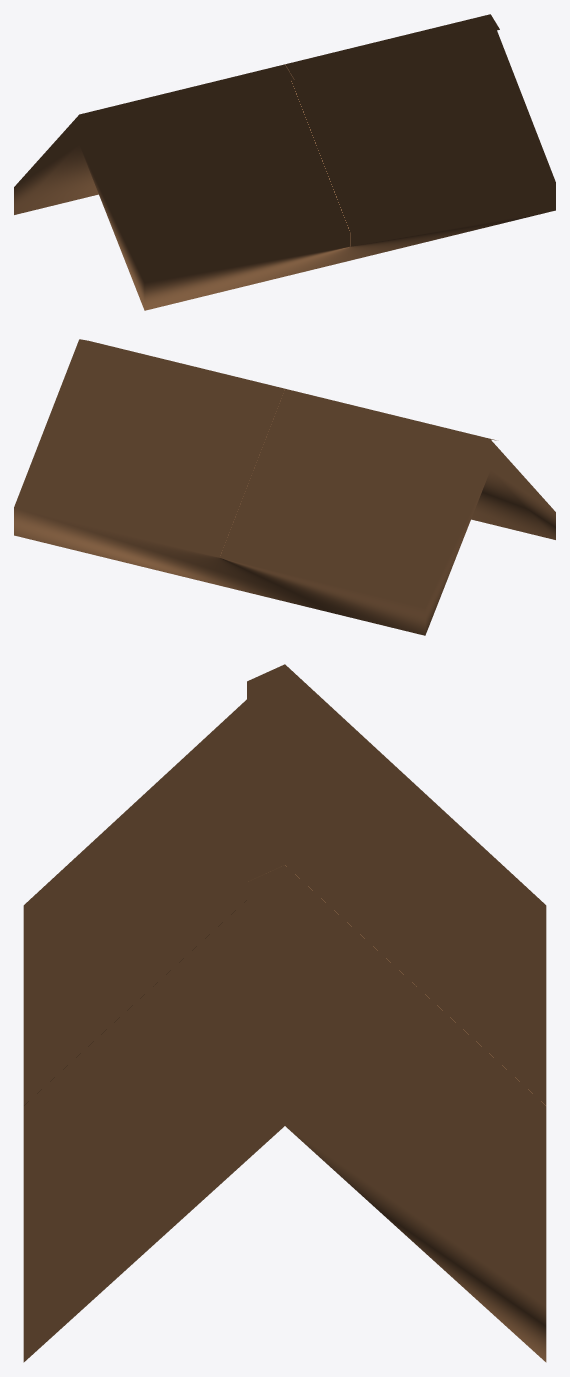
Rendered from roof_ridge_shingle_lod1.glb.
3 views of the same model, one above another, from view 1: azimuth 30°, elevation 25°; view 2: azimuth 150°, elevation 25°; view 3: azimuth 270°, elevation 25° (orthographic). The views are drawn at different scales.
Bounding box in the file's own units: 2 × 0.69 × 1.1.
